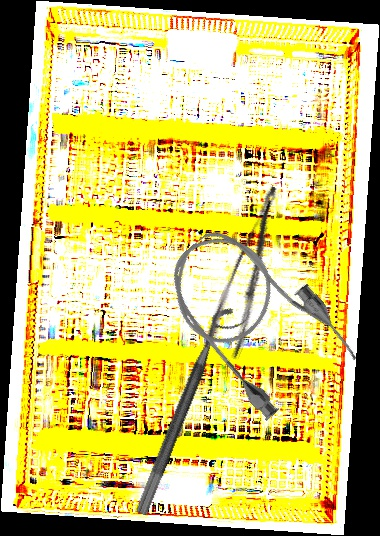Cannula: (147, 204, 366, 431)
Dressing Forceps: (200, 184, 306, 361)
Fixation Ring: (134, 303, 248, 523)
